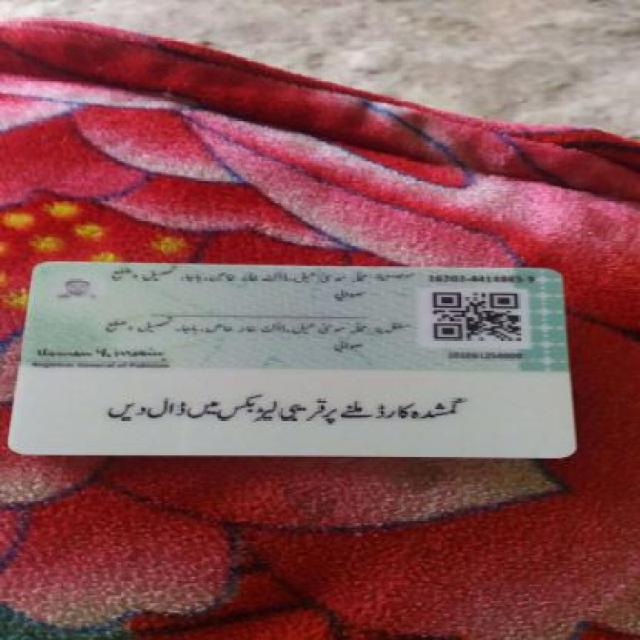Back: (12, 258, 582, 468)
